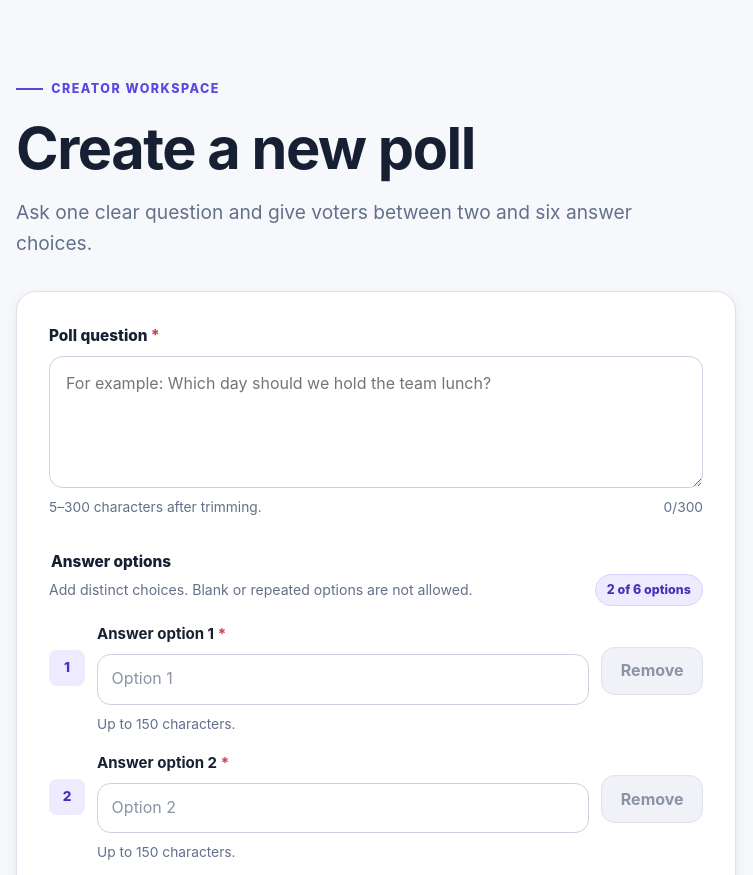
Test case: CreatePollView › rejects duplicate options after trimming and without regard to case
Type "Which colour should we use?" into the text box with test id "question-input" at [376, 422], box left=49, top=356, right=703, bottom=488
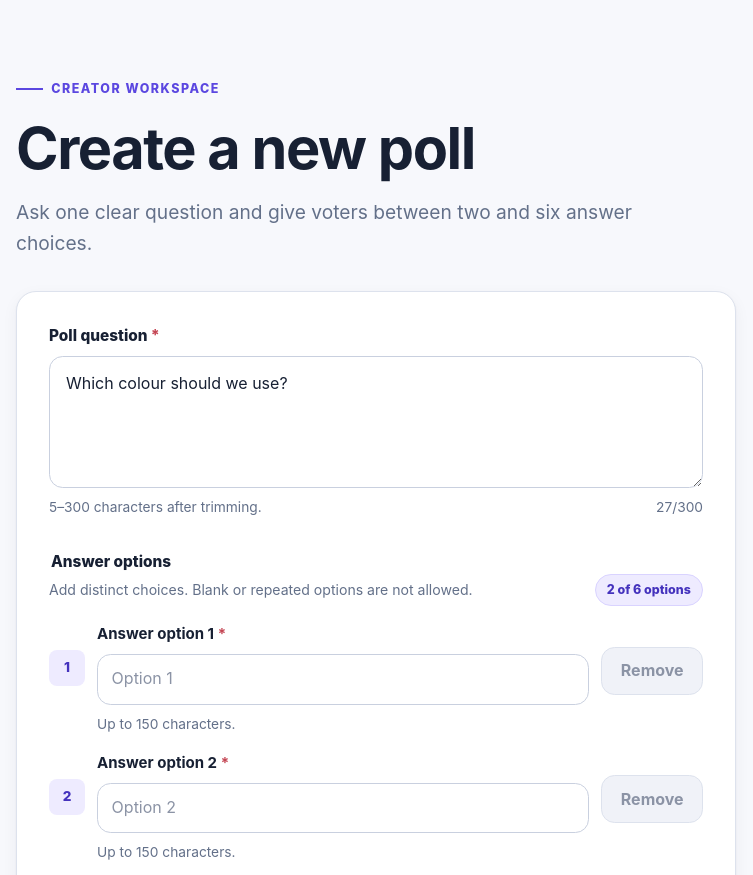
Type "  Blue " into the field with test id "option-input" showing "Answer option 1 *" at [343, 679], box left=97, top=654, right=589, bottom=705
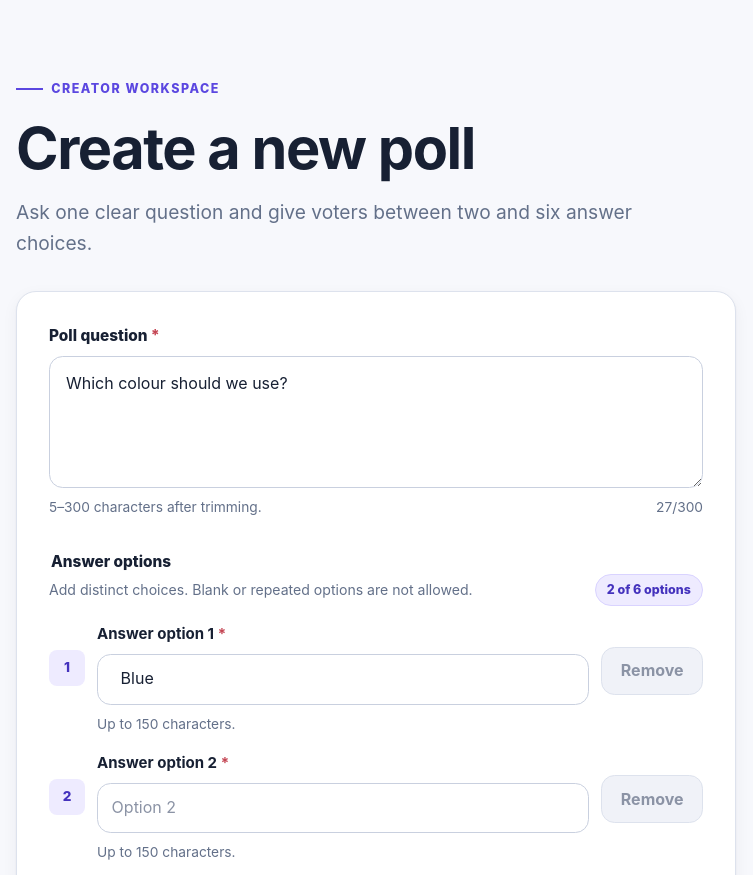
Type "blue" into the field with test id "option-input" showing "Answer option 2 *" at [343, 808], box left=97, top=783, right=589, bottom=833
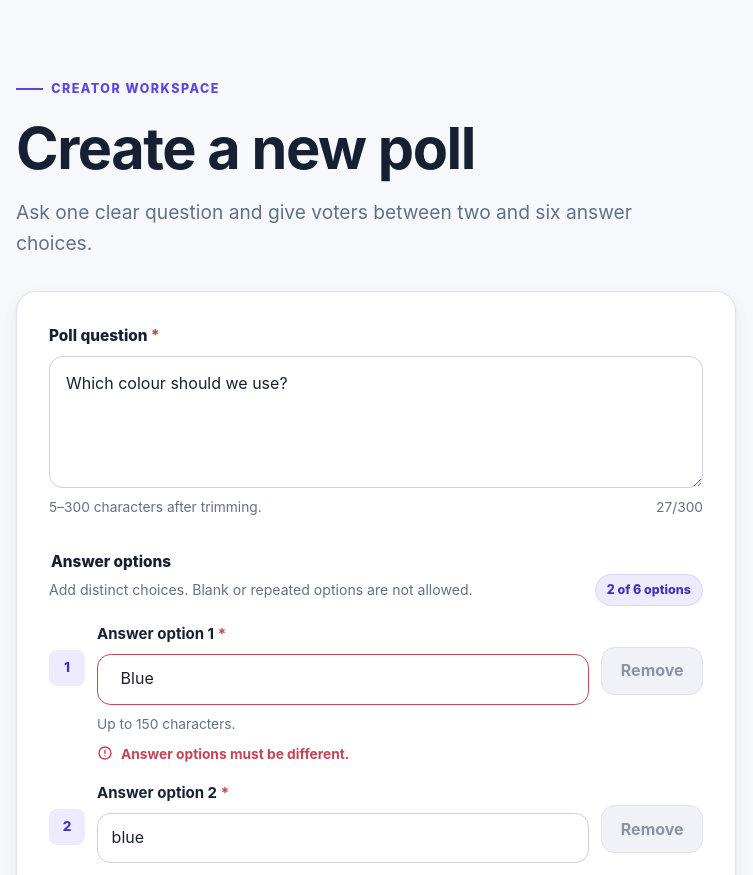
Leave the field with test id "option-input" showing "Answer option 2 *", box left=97, top=813, right=589, bottom=863
(page scrolled)
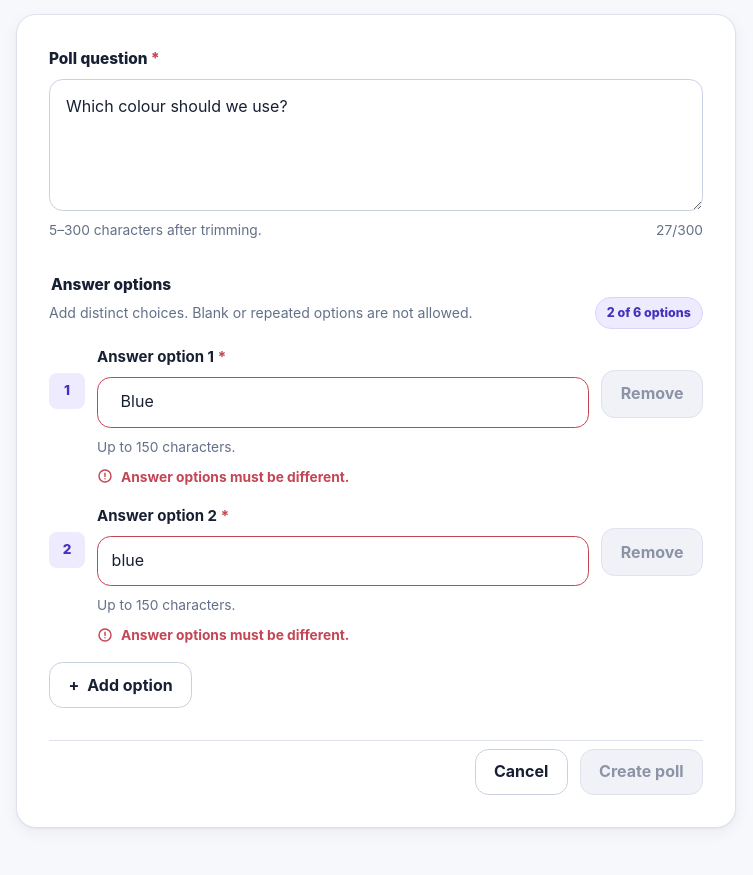
Check: the button with test id "create-poll" is disabled, box left=580, top=749, right=703, bottom=794
Check: the elements with class "input-field__error" read "Answer options must be different.", "Answer options must be different.", in this order, box left=97, top=468, right=349, bottom=485; left=97, top=627, right=349, bottom=643
